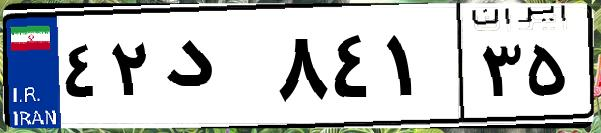1: (385, 28, 445, 110)
2: (110, 28, 158, 98)
3: (475, 38, 525, 113)
4: (330, 28, 385, 110), (57, 26, 110, 100)
5: (525, 38, 570, 115)
8: (270, 28, 330, 110)
د: (158, 20, 270, 120)
